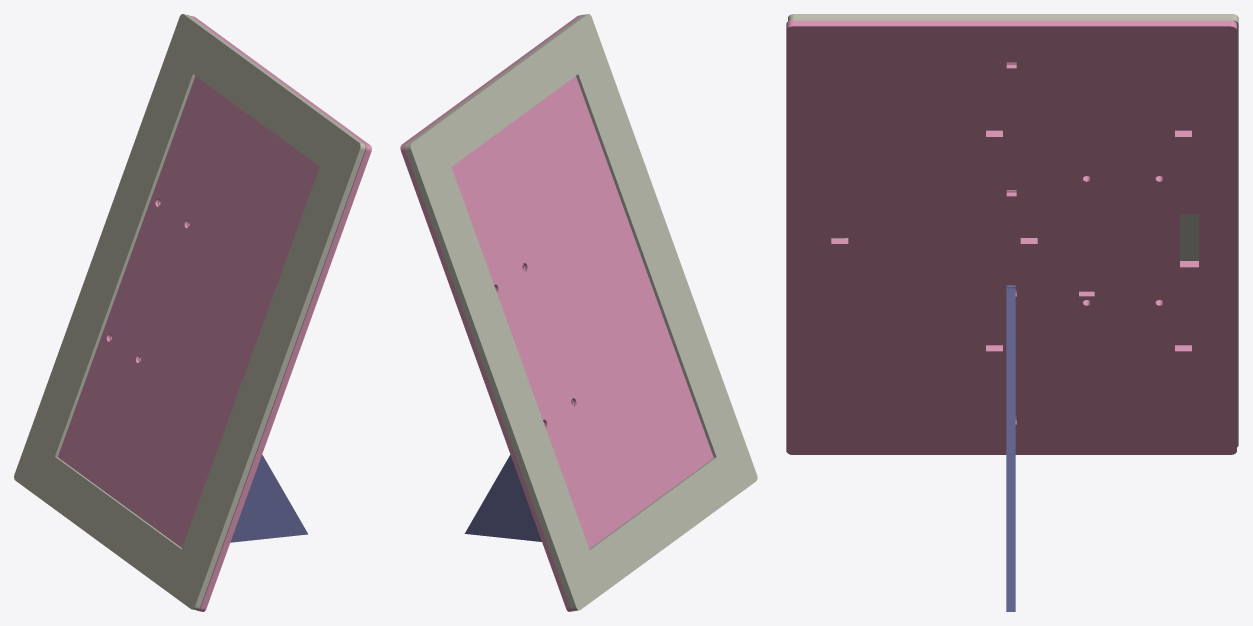
Rendered from complete-model.glb.
The picture shows the model from 3 angles, left to right: view 1: azimuth 30°, elevation 25°; view 2: azimuth 150°, elevation 25°; view 3: azimuth 270°, elevation 25°; orthographic projection. The views are drawn at different scales.
Visible parts, largest first — view 1: Mesh_Mesh_head_geo.001_lambert2SG.001; view 2: Mesh_Mesh_head_geo.001_lambert2SG.001; view 3: Mesh_Mesh_head_geo.001_lambert2SG.001.
Boxes of the visible parts, x1=… form: Mesh_Mesh_head_geo.001_lambert2SG.001: x1=14, y1=14, x2=371, y2=611; Mesh_Mesh_head_geo.001_lambert2SG.001: x1=400, y1=14, x2=757, y2=611; Mesh_Mesh_head_geo.001_lambert2SG.001: x1=786, y1=14, x2=1238, y2=611.
Bounding box in the file's own units: 92.32 × 201 × 143.
